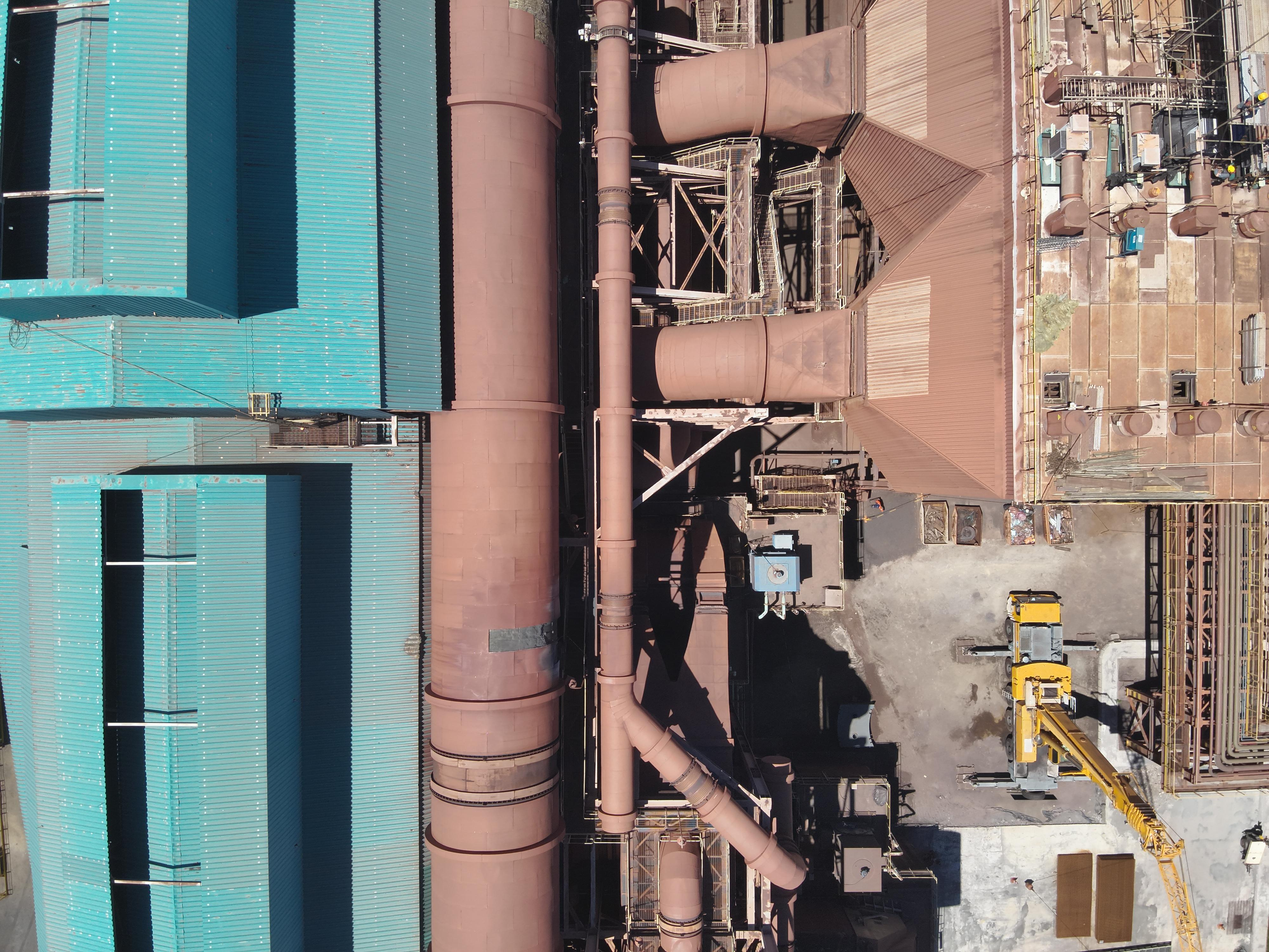Failures: (505, 0, 560, 49), (488, 618, 562, 654)
